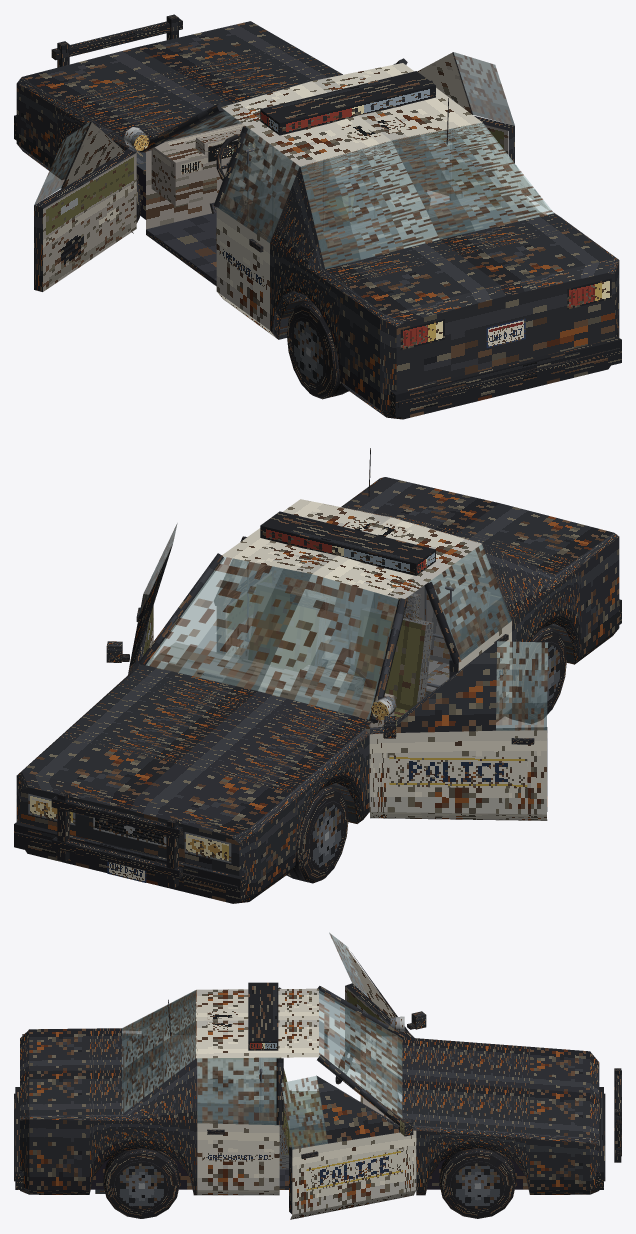
Rendered from VEH_PoliceCruiser_Abandoned.glb.
3 views of the same model, one above another, from view 1: azimuth 30°, elevation 25°; view 2: azimuth 150°, elevation 25°; view 3: azimuth 270°, elevation 25° (orthographic). The views are drawn at different scales.
Parts seen in each view (by area): view 1: Body, Hood, Trunk, Door_FL, Door_RL, Door_FR, Wheel_RL, Door_RR, SteeringWheel; view 2: Body, Hood, Door_FL, Trunk, Door_RL, Wheel_FL, Wheel_RL, Door_RR, Door_FR; view 3: Body, Hood, Door_FR, Door_RR, Trunk, Wheel_RR, Wheel_FR, Door_FL, Door_RL.
Part boxes in pixels (<box>): Body: <box>14,14,621,419</box>; Hood: <box>22,21,342,140</box>; Trunk: <box>325,213,613,314</box>; Door_FL: <box>34,121,136,291</box>; Door_RL: <box>216,126,299,337</box>; Door_FR: <box>393,52,514,195</box>; Wheel_RL: <box>286,301,348,399</box>; Door_RR: <box>452,123,502,210</box>; SteeringWheel: <box>216,134,268,191</box>; Body: <box>14,448,621,903</box>; Hood: <box>22,664,373,827</box>; Door_FL: <box>369,641,548,820</box>; Trunk: <box>342,477,613,574</box>; Door_RL: <box>428,544,511,721</box>; Wheel_FL: <box>286,785,348,883</box>; Wheel_RL: <box>506,626,566,723</box>; Door_RR: <box>217,561,271,659</box>; Door_FR: <box>106,523,177,674</box>; Body: <box>14,982,621,1195</box>; Hood: <box>402,1037,589,1137</box>; Door_FR: <box>281,1075,416,1219</box>; Door_RR: <box>197,1057,279,1195</box>; Trunk: <box>29,1028,121,1115</box>; Wheel_RR: <box>103,1148,179,1218</box>; Wheel_FR: <box>439,1148,515,1218</box>; Door_FL: <box>329,932,426,1094</box>; Door_RL: <box>198,1058,259,1101</box>.
Size of what is drawn, in the model's own units: 3.4 by 1.82 by 5.25.
3 materials, 3 textured.
